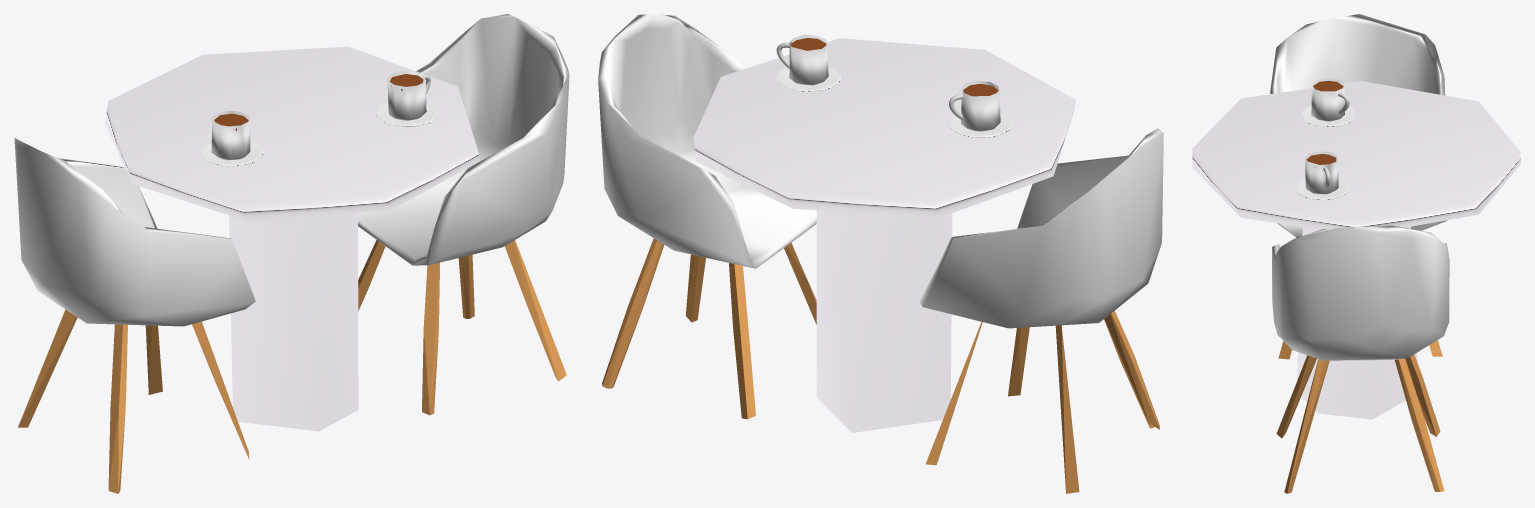
File: Cocinaxx222.fbx
3 views of the same model, side by side, from view 1: azimuth 30°, elevation 25°; view 2: azimuth 150°, elevation 25°; view 3: azimuth 270°, elevation 25° (orthographic). The views are drawn at different scales.
Parts seen in each view (by area): view 1: Cilindro, Cilindro.024, Cilindro.021, Cilindro.004, Cilindro.002; view 2: Cilindro, Cilindro.024, Cilindro.021, Cilindro.002, Cilindro.004; view 3: Cilindro, Cilindro.024, Cilindro.021, Cilindro.002, Cilindro.004.
Part boxes in pixels (x1,y1,x2,y2): Cilindro: [105, 46, 479, 431]; Cilindro.024: [358, 14, 569, 415]; Cilindro.021: [14, 138, 255, 493]; Cilindro.004: [199, 110, 263, 167]; Cilindro.002: [375, 71, 438, 128]; Cilindro: [693, 38, 1076, 432]; Cilindro.024: [598, 14, 816, 419]; Cilindro.021: [919, 128, 1163, 493]; Cilindro.002: [776, 34, 840, 92]; Cilindro.004: [948, 81, 1012, 138]; Cilindro: [1192, 81, 1520, 419]; Cilindro.024: [1272, 225, 1449, 493]; Cilindro.021: [1270, 14, 1446, 359]; Cilindro.002: [1294, 151, 1349, 200]; Cilindro.004: [1300, 78, 1355, 127].
Bounding box in the file's own units: 579 × 350 × 374.
